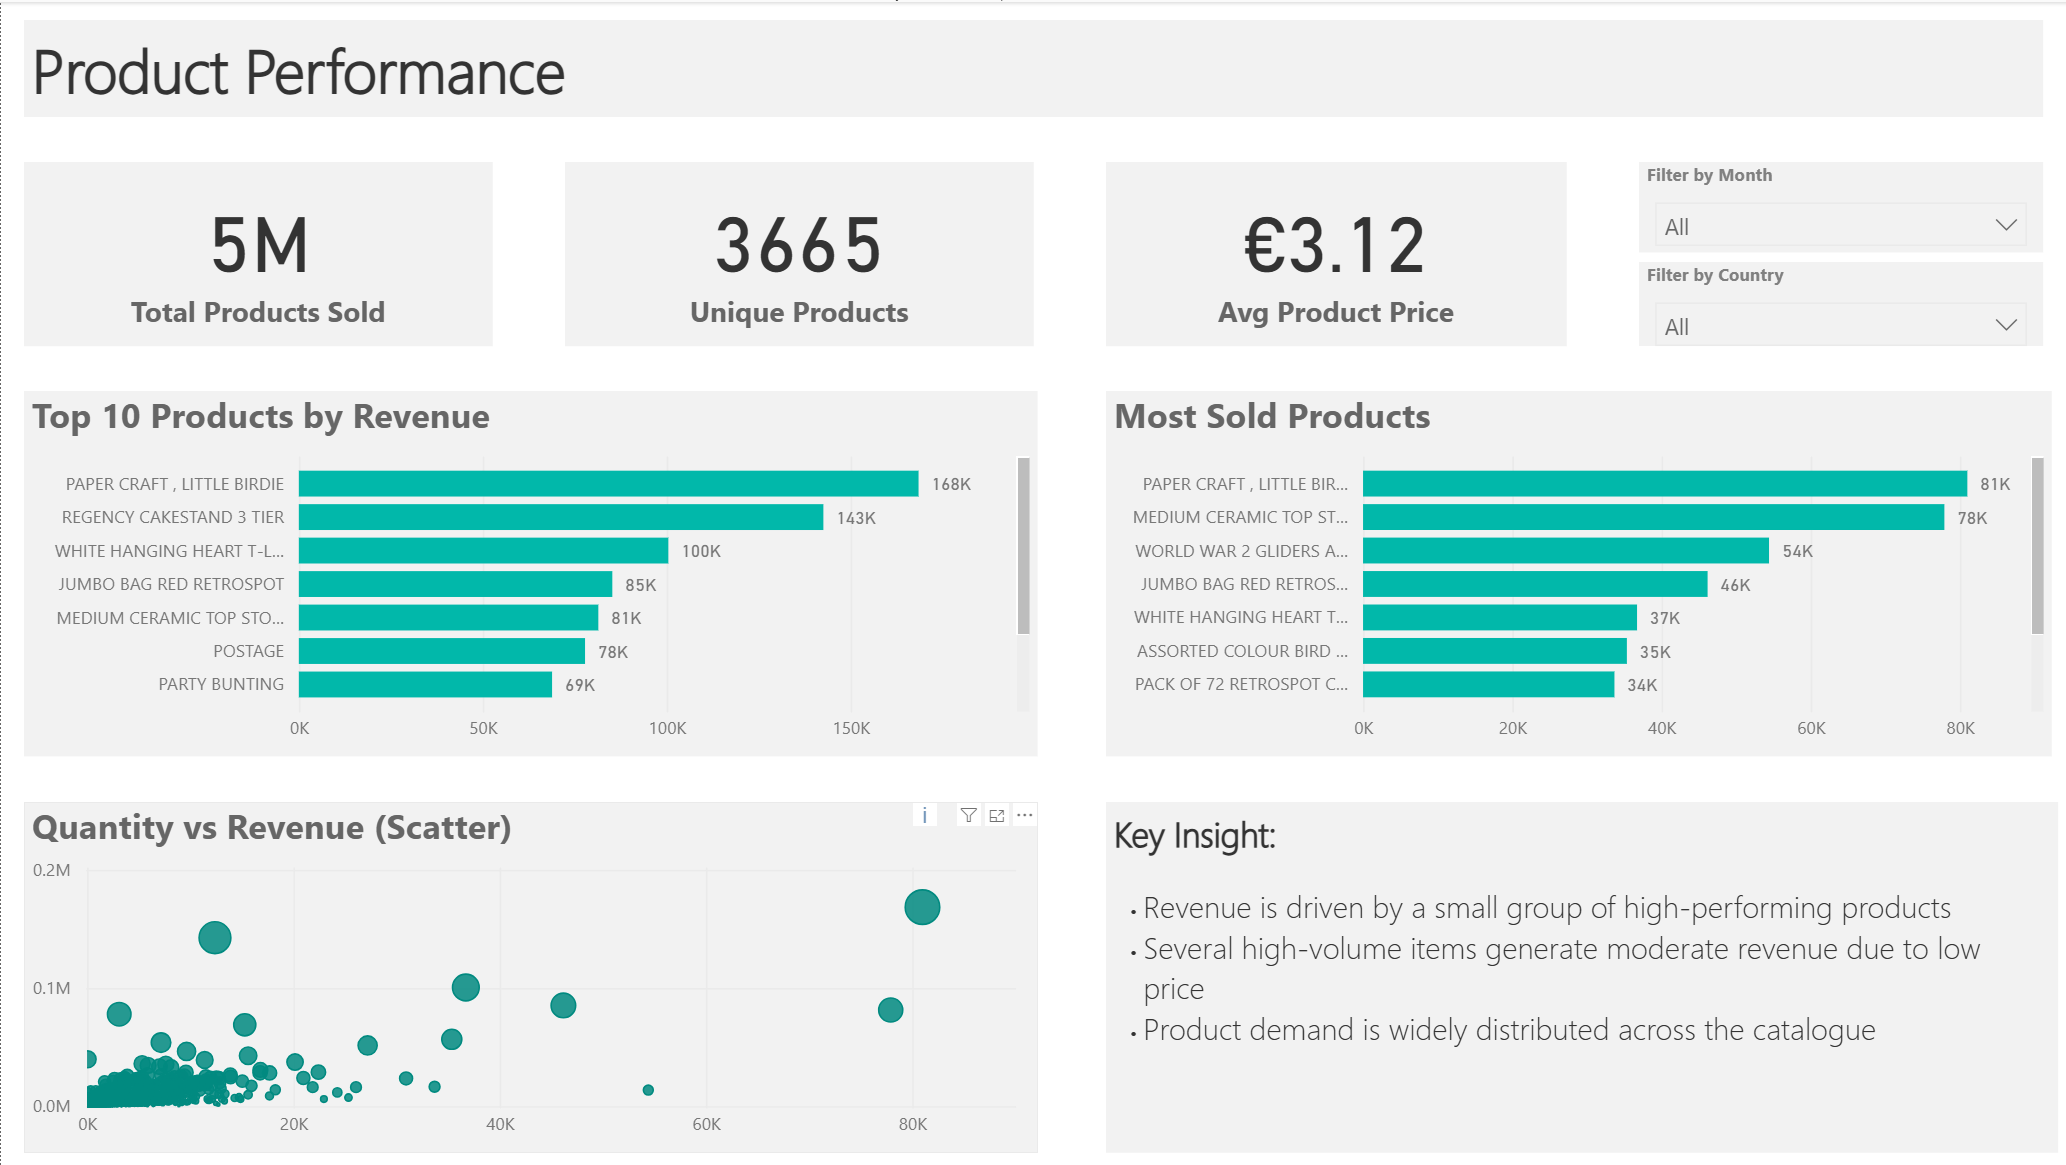

The page's visual inventory and layout, read from the dashboard file:
{"tool":"powerbi","page":{"name":"Product Performance","canvas":[1280,720],"ordinal":2},"visuals":[{"type":"card","fields":{"Values":["public v_retail_clean.Total Products Sold"]},"box":[14.4,99,289.7,113.8],"z":0},{"type":"card","fields":{"Values":["public v_retail_clean.Unique Products"]},"box":[349.1,98.8,289.7,113.8],"z":1000},{"type":"card","fields":{"Values":["public v_retail_clean.Avg Product Price"]},"box":[683.7,98.8,284.5,113.8],"z":2000},{"type":"textbox","box":[14.2,11.1,1248.9,60],"z":3000},{"type":"clusteredBarChart","title":"Top 10 Products by Revenue","fields":{"Category":["public v_retail_clean.description"],"Y":["public v_retail_clean.Total Revenue"]},"box":[14.2,240.6,627.2,226.4],"z":4000},{"type":"clusteredBarChart","title":"Most Sold Products","fields":{"Y":["public v_retail_clean.Total Products Sold"],"Category":["public v_retail_clean.description"]},"box":[683.5,240.7,585.4,226.3],"z":5000},{"type":"scatterChart","title":"Quantity vs Revenue (Scatter)","fields":{"X":["public v_retail_clean.Total Products Sold"],"Y":["public v_retail_clean.Total Revenue"],"Category":["public v_retail_clean.description"],"Size":["public v_retail_clean.Total Revenue"]},"box":[14.2,495,627.2,217.1],"z":6000},{"type":"textbox","box":[683.5,495,589.3,217.1],"z":7000},{"type":"slicer","title":"Filter by Month","fields":{"Values":["public v_retail_clean.Month"]},"box":[1013.1,98.8,249.9,55.6],"z":8000},{"type":"slicer","title":"Filter by Country","fields":{"Values":["public v_retail_clean.country"]},"box":[1013.1,160.9,249.9,51.7],"z":9000}]}

Visuals, with their boxes in screenshot pixels (x1, y1, x2, y2), scaled from the page's 1280x720 canvas onto the 2066x1165 screenshot:
card - public v_retail_clean.Total Products Sold: 23:160:491:344
card - public v_retail_clean.Unique Products: 563:160:1031:344
card - public v_retail_clean.Avg Product Price: 1104:160:1563:344
textbox: 23:18:2039:115
"Top 10 Products by Revenue" clusteredBarChart: 23:389:1035:756
"Most Sold Products" clusteredBarChart: 1103:389:2048:756
"Quantity vs Revenue (Scatter)" scatterChart: 23:801:1035:1152
textbox: 1103:801:2054:1152
"Filter by Month" slicer: 1635:160:2039:250
"Filter by Country" slicer: 1635:260:2039:344
